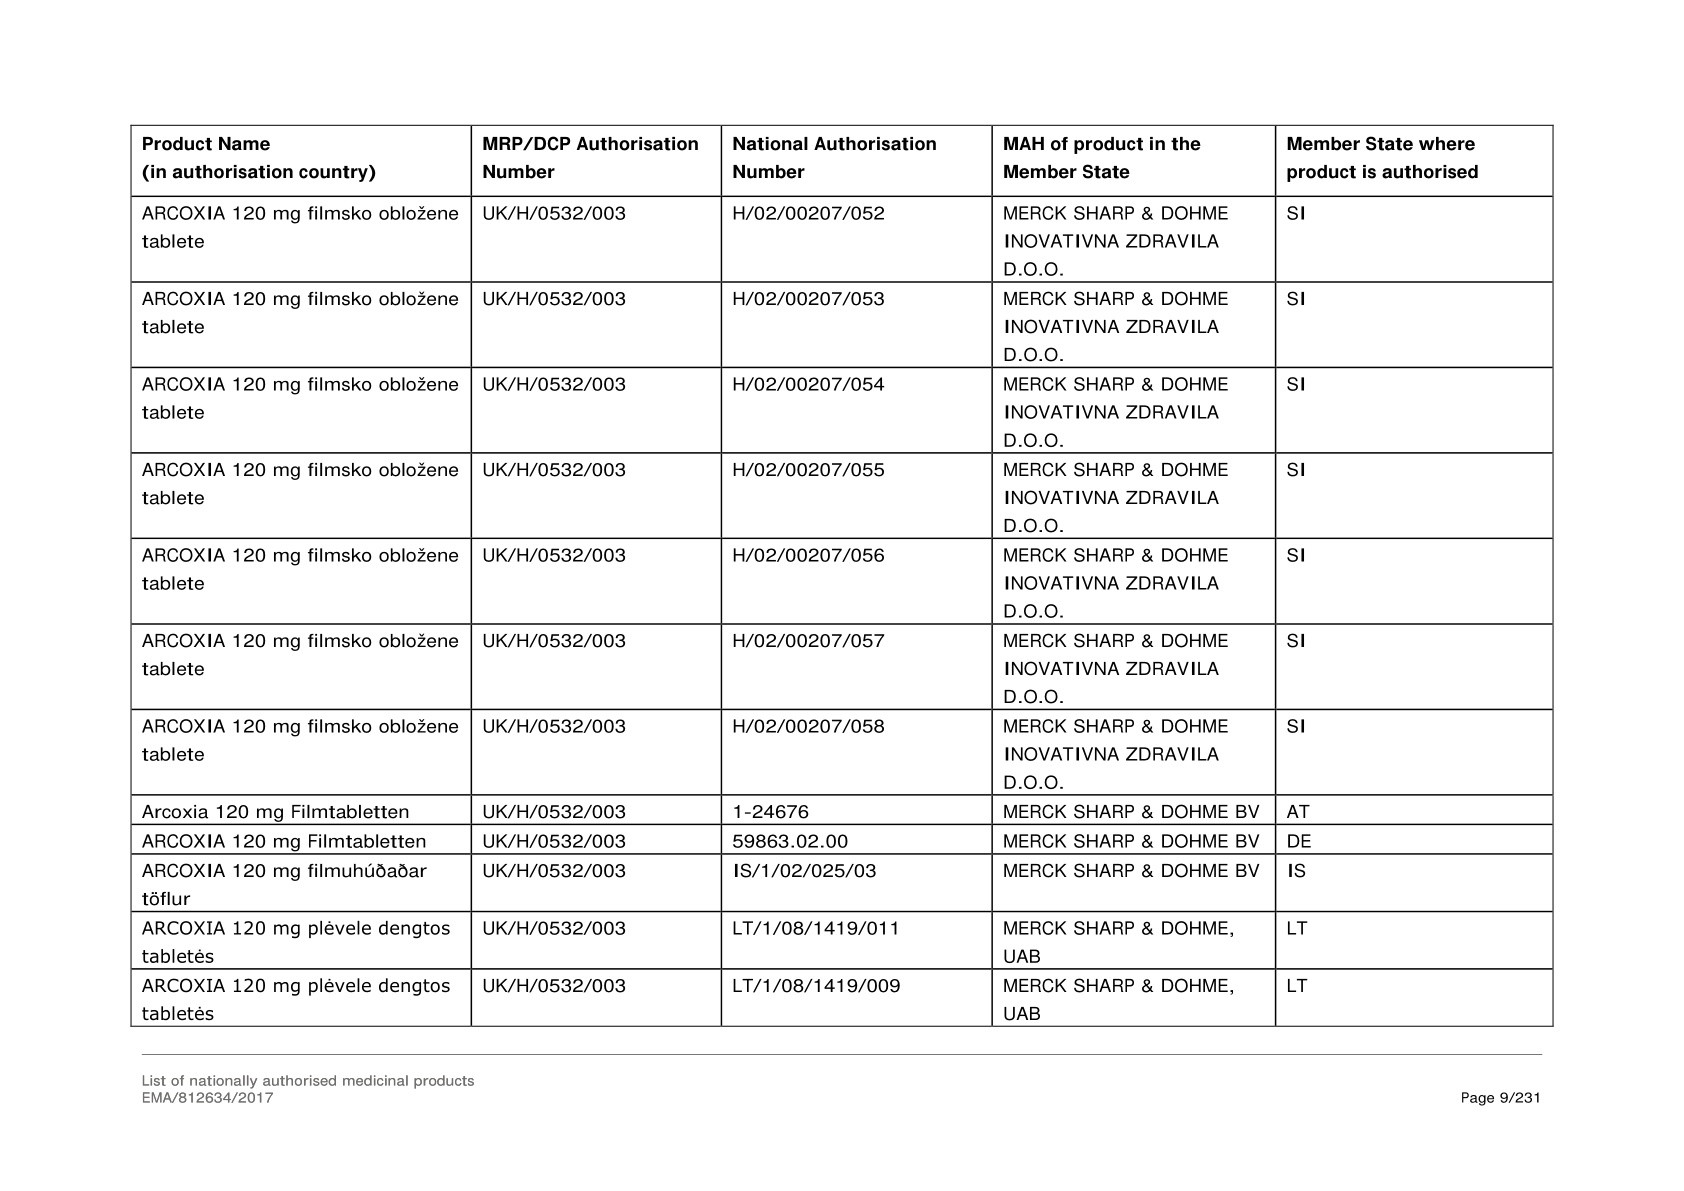full_lined: (129, 122, 1555, 1029)
